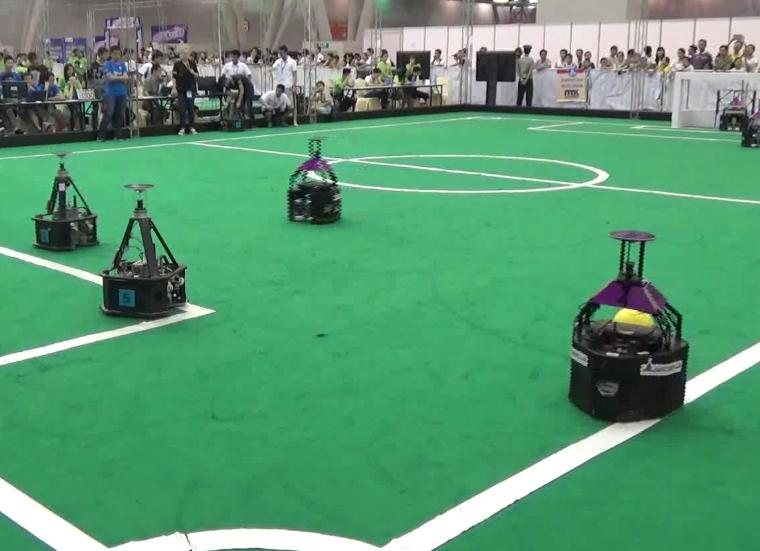robot: (568, 226, 689, 422), (96, 178, 191, 318), (27, 148, 102, 253), (283, 132, 349, 227)
